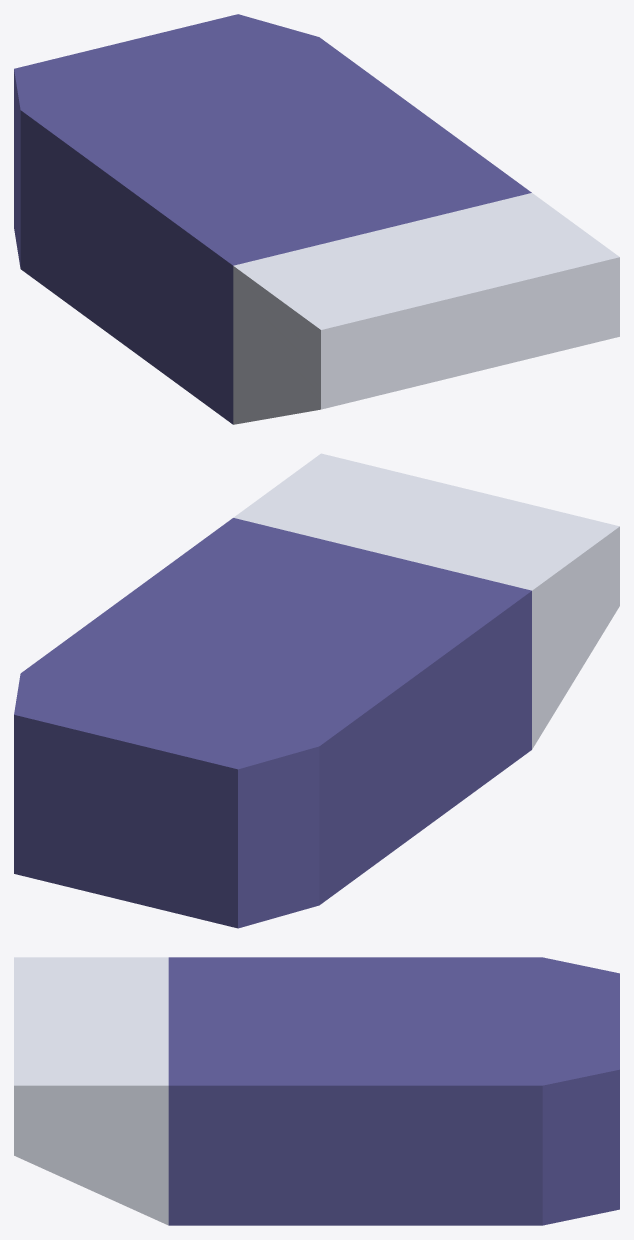
File: head.obj
3 renders of one model, top to bottom at view 1: azimuth 30°, elevation 25°; view 2: azimuth 150°, elevation 25°; view 3: azimuth 270°, elevation 25°, orthographic. The views are drawn at different scales.
Visible parts, largest first — view 1: mergedBlocks; view 2: mergedBlocks; view 3: mergedBlocks.
Part boxes in pixels (x1,y1,x2,y2): mergedBlocks: (14,14,619,424); mergedBlocks: (14,453,619,928); mergedBlocks: (14,957,619,1225).
Bounding box in the file's own units: 0.3931 × 0.2 × 0.7849.
